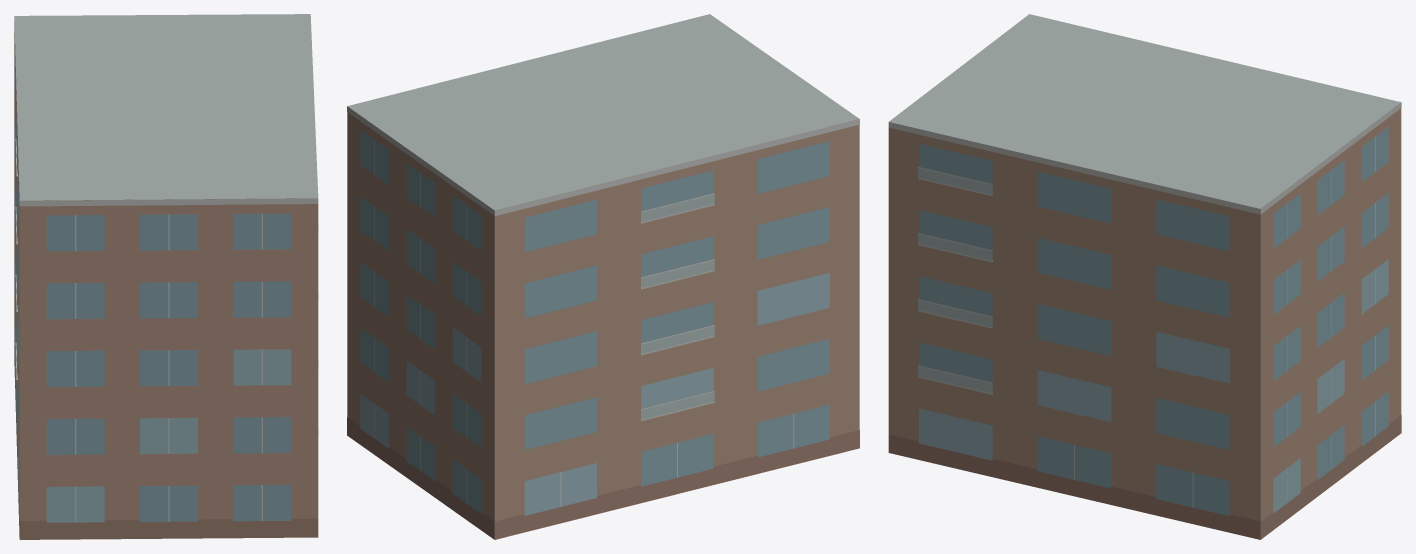
The model's file is survey-upis-32870628.glb.
The picture shows the model from 3 angles, left to right: view 1: azimuth 30°, elevation 25°; view 2: azimuth 150°, elevation 25°; view 3: azimuth 270°, elevation 25°; orthographic projection. The views are drawn at different scales.
Parts seen in each view (by area): view 1: survey-upis-32870628.tmp; view 2: survey-upis-32870628.tmp; view 3: survey-upis-32870628.tmp.
Boxes of the visible parts, left/top/right/bottom form: survey-upis-32870628.tmp: left=14, top=14, right=318, bottom=539; survey-upis-32870628.tmp: left=347, top=14, right=859, bottom=539; survey-upis-32870628.tmp: left=888, top=14, right=1401, bottom=539.
Bounding box in the file's own units: 17.95 × 14.2 × 19.95.
